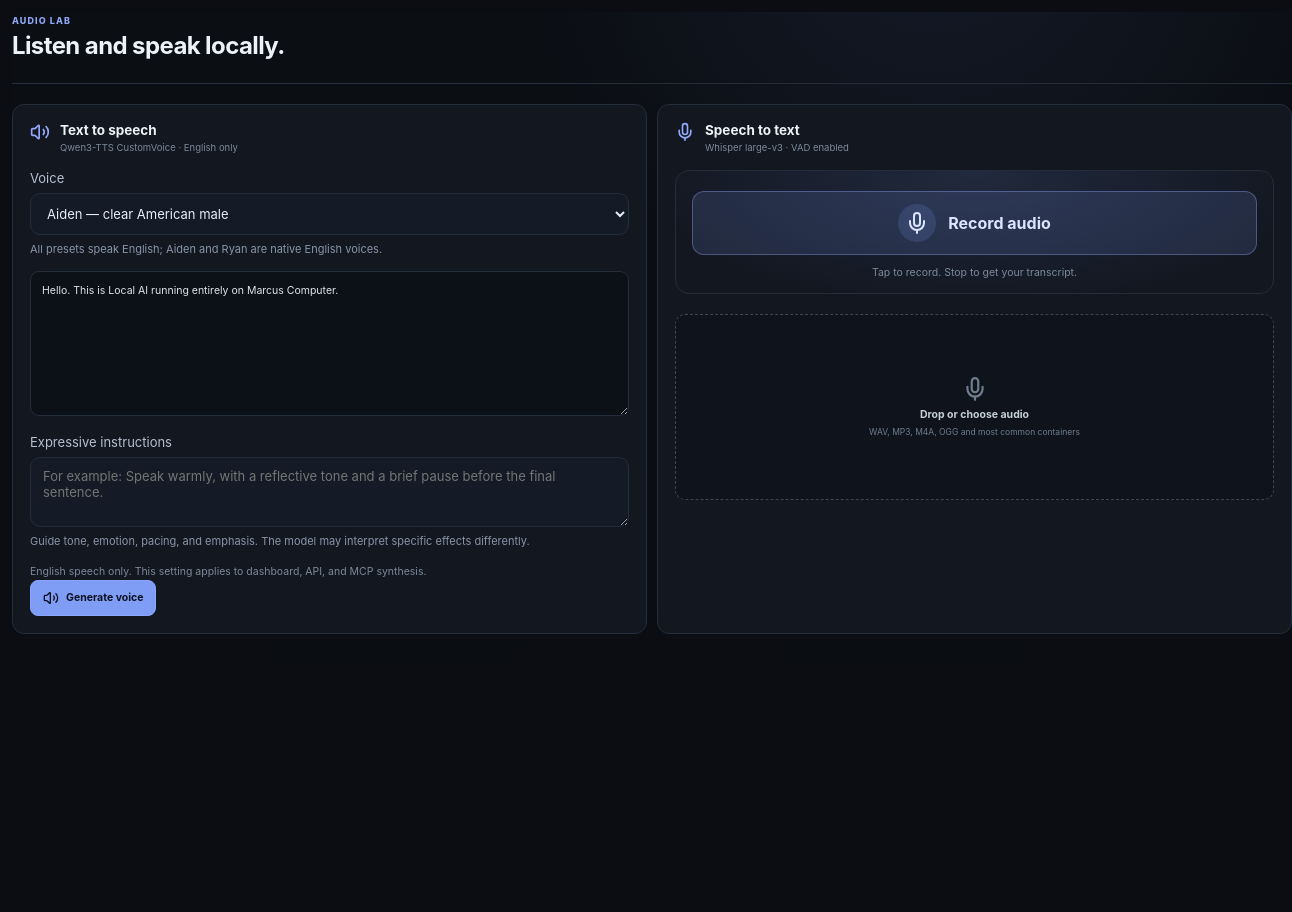
Test: SpeechPanel microphone recording › shows microphone permission errors and allows retry
The image size is (1292, 912).
Click the button "Record audio". click: point(974, 223)
box: top-left (692, 191), bottom-right (1257, 255)
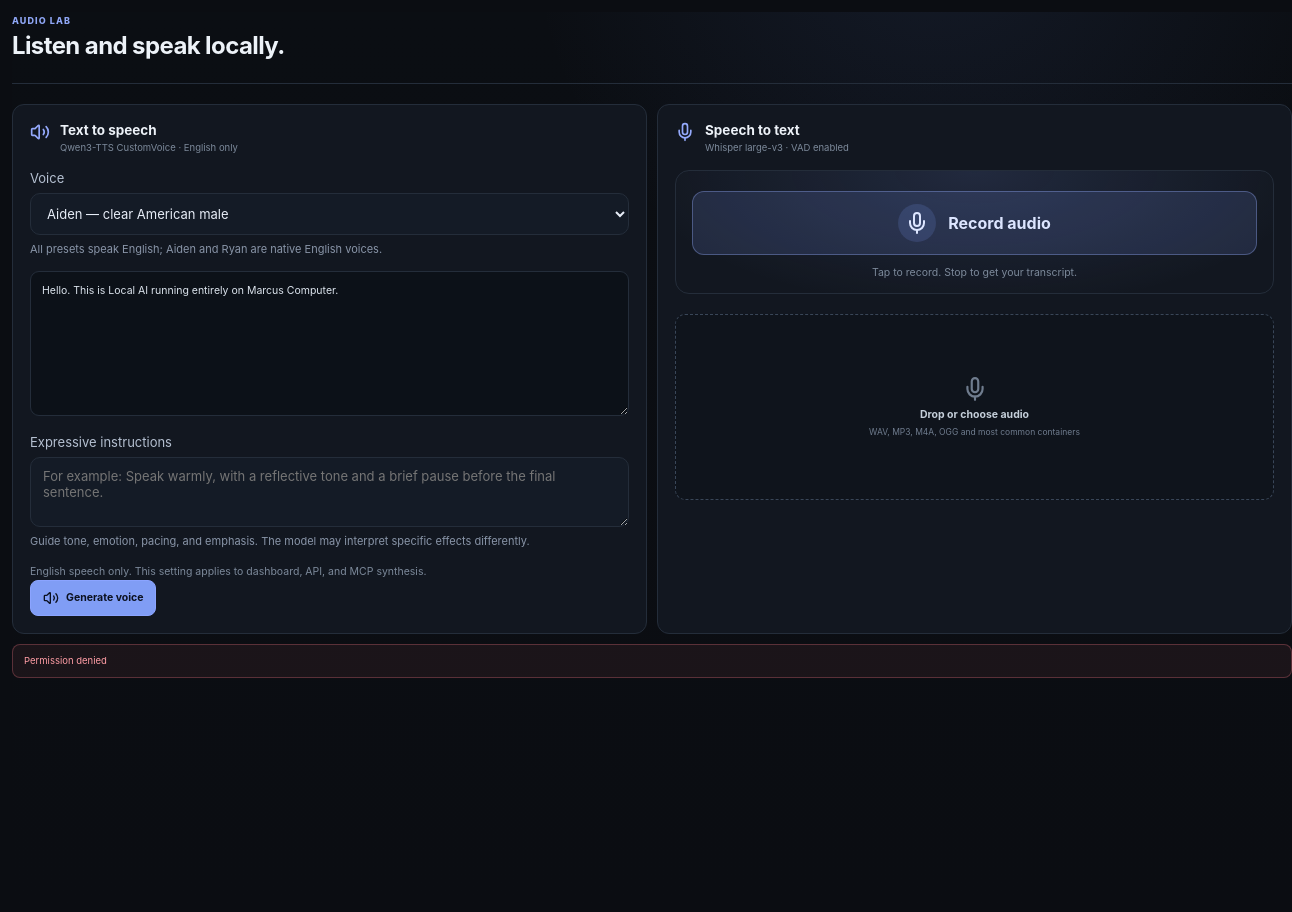
Result: the message "Permission denied" is shown at top-left (12, 644), bottom-right (1291, 678)
Click the button "Record audio". click: point(974, 223)
box: top-left (692, 191), bottom-right (1257, 255)
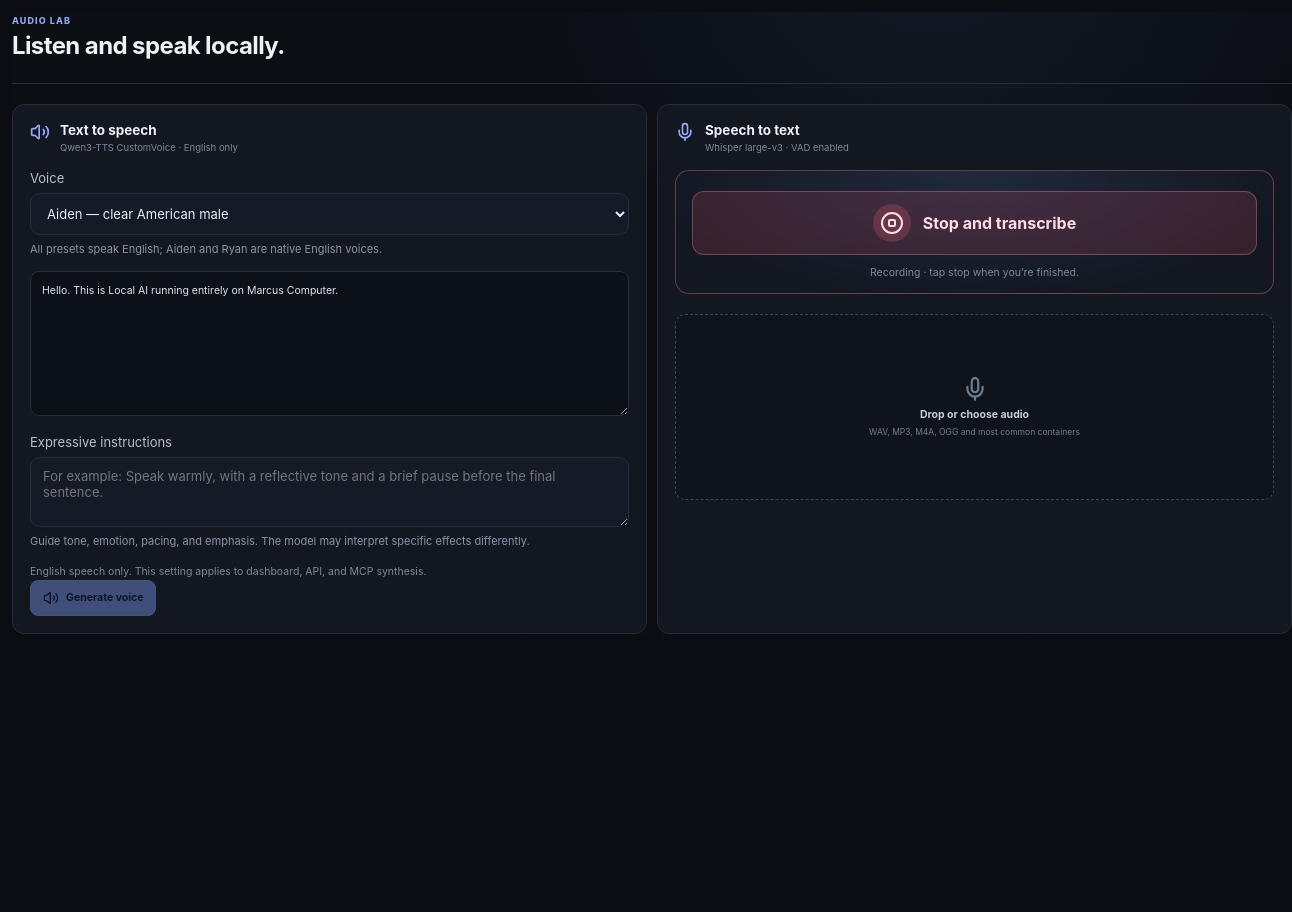
Result: the button "Stop and transcribe" is shown at top-left (692, 191), bottom-right (1257, 255)
